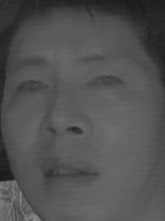eye: (85, 69, 125, 96), (15, 76, 52, 99)
mouth: (37, 155, 105, 192)
